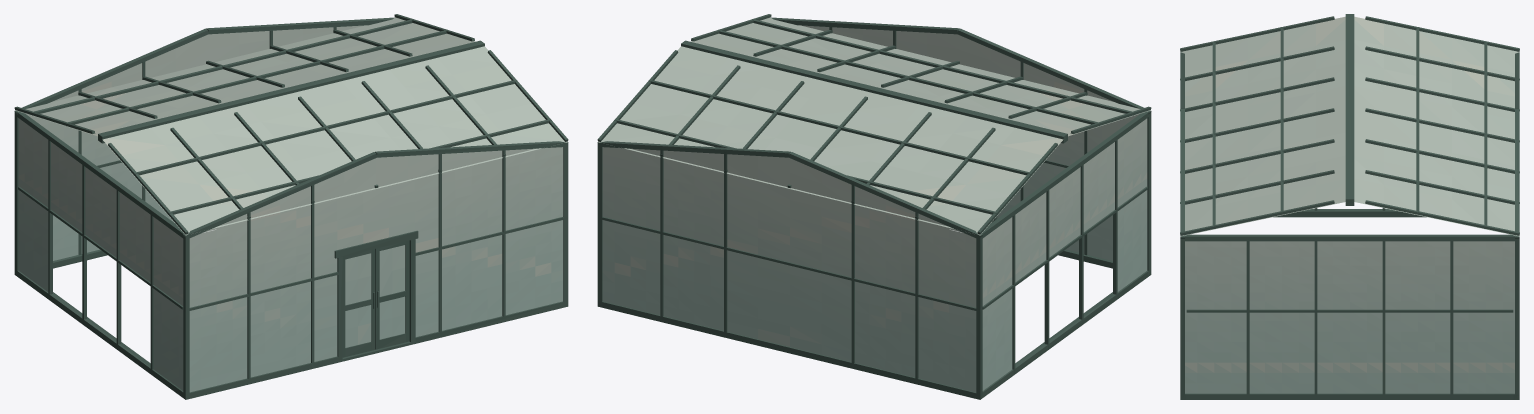
Rendered from greenhouse.m1.clunk-optimized.glb.
The picture shows the model from 3 angles, left to right: view 1: azimuth 30°, elevation 25°; view 2: azimuth 150°, elevation 25°; view 3: azimuth 270°, elevation 25°; orthographic projection.
Parts seen in each view (by area): view 1: glass_panels, greenhouse_frame; view 2: glass_panels, greenhouse_frame; view 3: glass_panels, greenhouse_frame.
Boxes of the visible parts, left/top/right/bottom form: glass_panels: left=15, top=17, right=567, bottom=392; greenhouse_frame: left=14, top=14, right=568, bottom=399; glass_panels: left=598, top=17, right=1150, bottom=392; greenhouse_frame: left=597, top=14, right=1151, bottom=399; glass_panels: left=1180, top=16, right=1519, bottom=393; greenhouse_frame: left=1180, top=14, right=1519, bottom=399.
Bounding box in the file's own units: 8.42 × 4.24 × 6.51.
